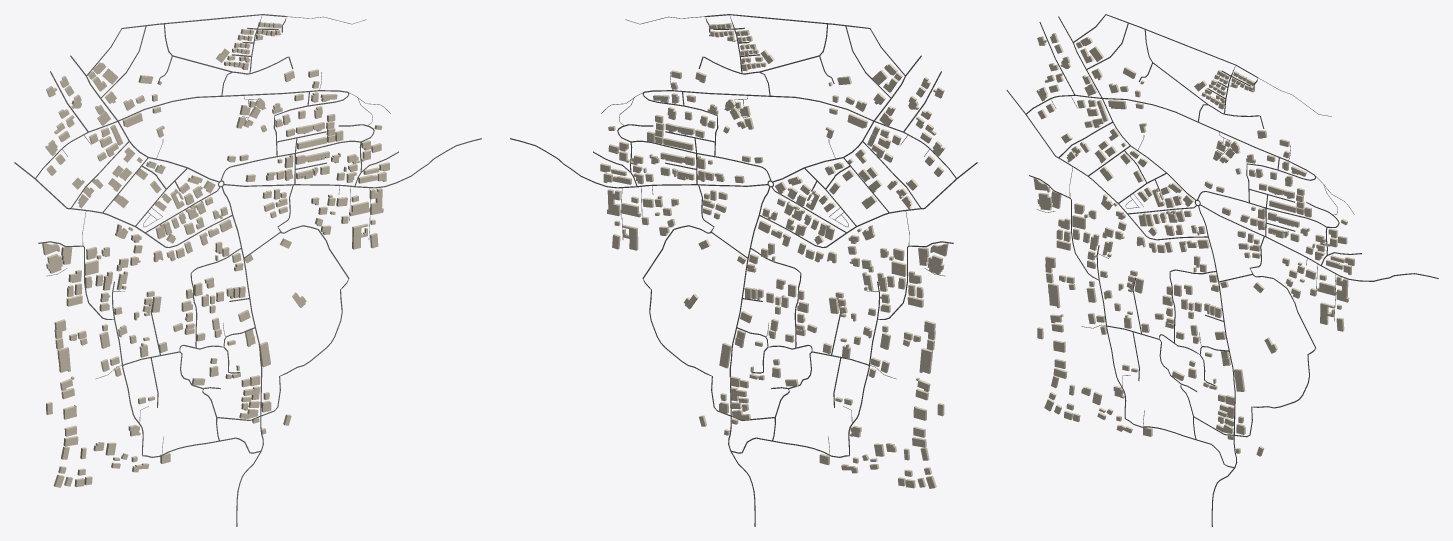
Rendered from historic-palestine-10_24_3522_3188.glb.
3 views of the same model, side by side, from view 1: azimuth 30°, elevation 25°; view 2: azimuth 150°, elevation 25°; view 3: azimuth 330°, elevation 25° (orthographic). The views are drawn at different scales.
Parts seen in each view (by area): view 1: Road .001, Road .043; view 2: Road .001, Road .043; view 3: Road .001.
Part boxes in pixels (x1=…): Road .001: x1=221, y1=187, x2=263, y2=526; Road .043: x1=260, y1=185, x2=349, y2=416; Road .001: x1=728, y1=186, x2=770, y2=526; Road .043: x1=642, y1=184, x2=730, y2=416; Road .001: x1=1198, y1=206, x2=1237, y2=526.
Bounding box in the file's own units: 1311 × 1411 × 9.09.
